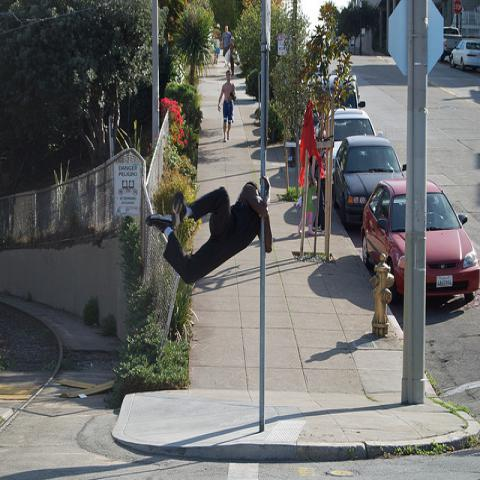car: (362, 176, 480, 312), (334, 135, 406, 229), (329, 112, 369, 170), (449, 40, 479, 72), (440, 28, 462, 61)
